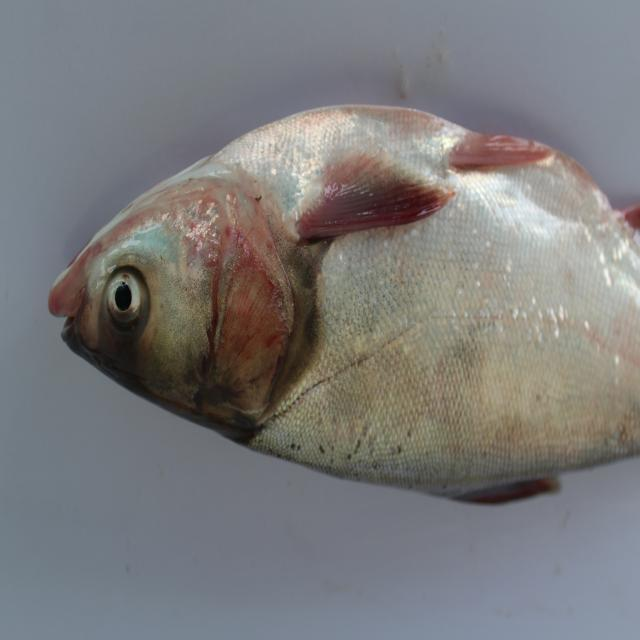SilverCarp: (71, 110, 638, 518)
